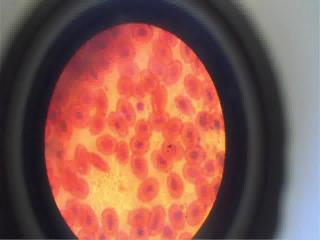cell: (68, 105, 90, 132), (132, 182, 166, 199), (101, 208, 125, 231), (105, 110, 126, 136), (183, 75, 205, 99), (182, 124, 204, 147), (129, 156, 153, 177), (149, 151, 172, 172), (118, 99, 138, 123), (167, 172, 186, 197), (81, 207, 99, 232), (54, 116, 74, 138), (70, 176, 90, 198), (186, 146, 210, 164), (116, 138, 132, 165), (176, 93, 194, 116), (131, 136, 153, 154), (150, 110, 172, 128), (132, 25, 156, 41), (142, 70, 160, 90), (136, 119, 154, 139), (110, 48, 138, 60), (98, 133, 114, 153), (78, 152, 94, 172), (156, 43, 174, 58), (197, 112, 210, 132)
